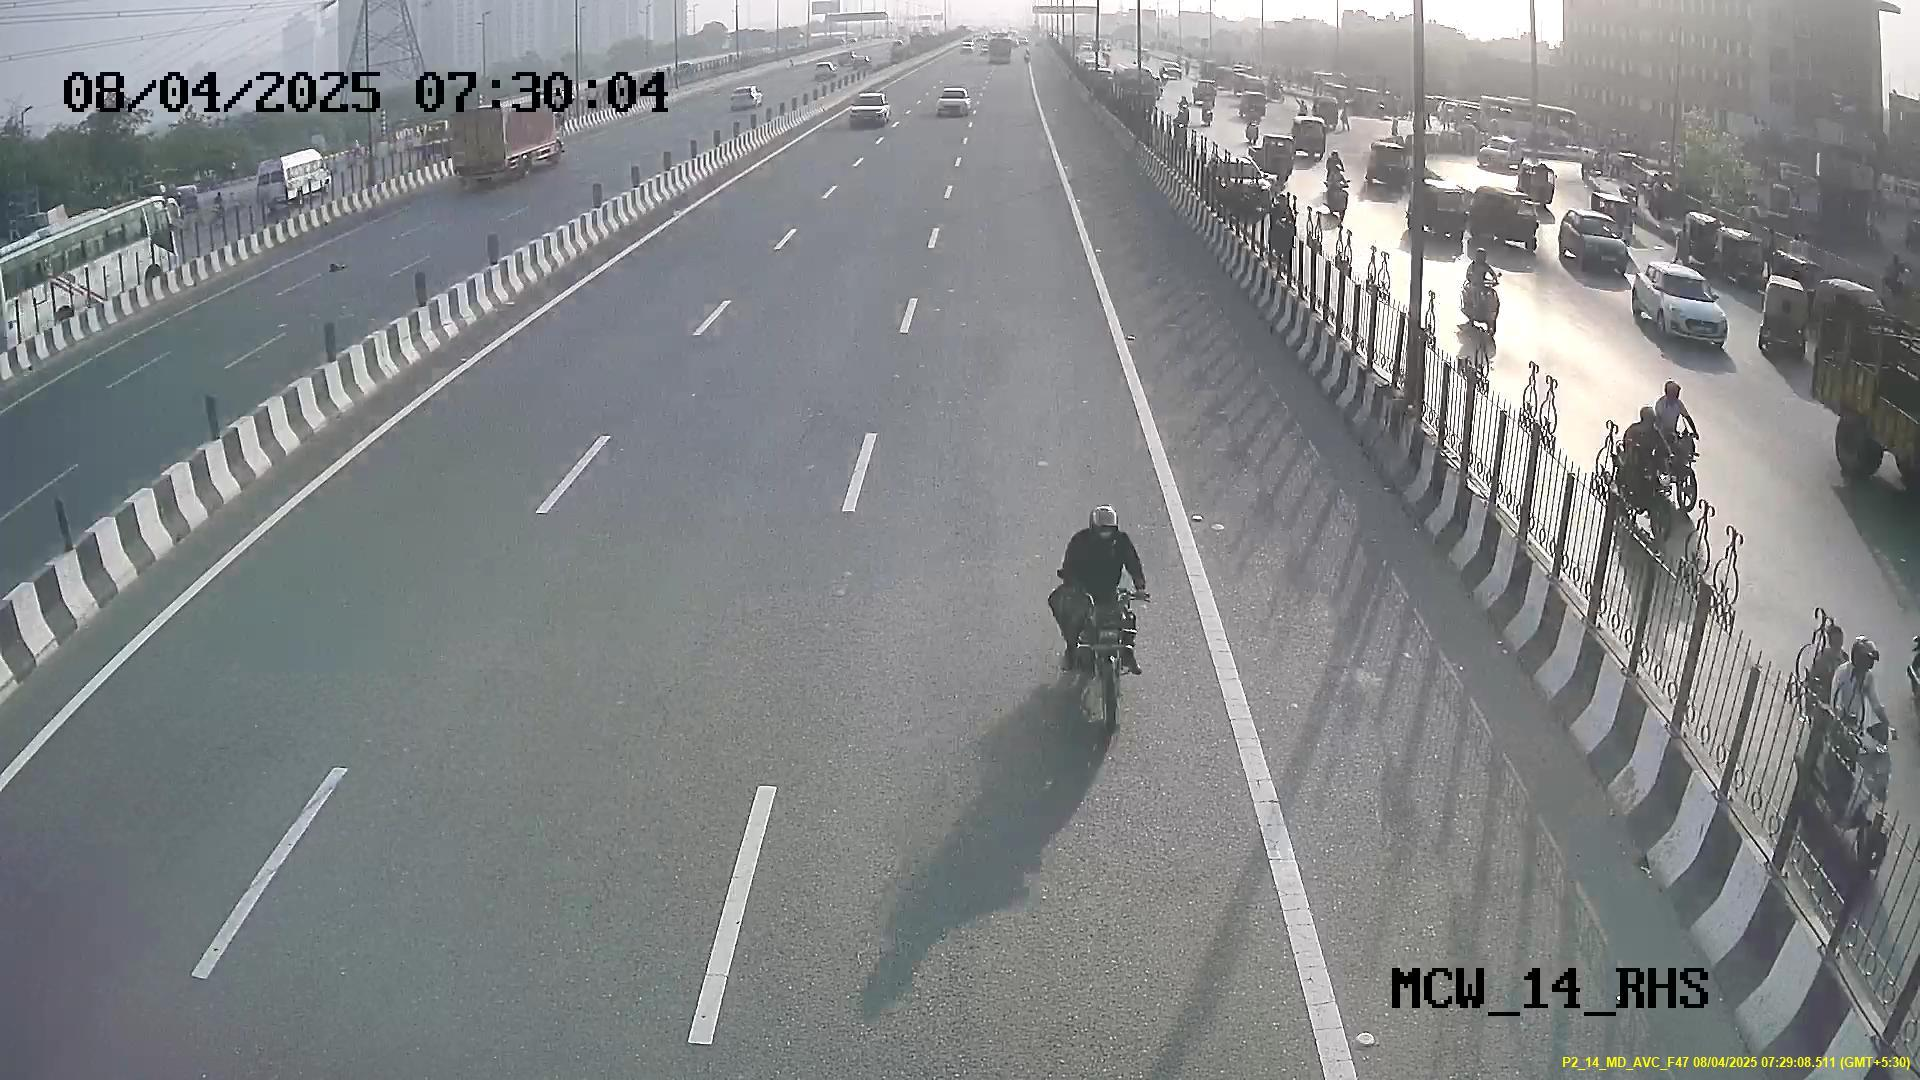bike: (1047, 498, 1150, 735)
